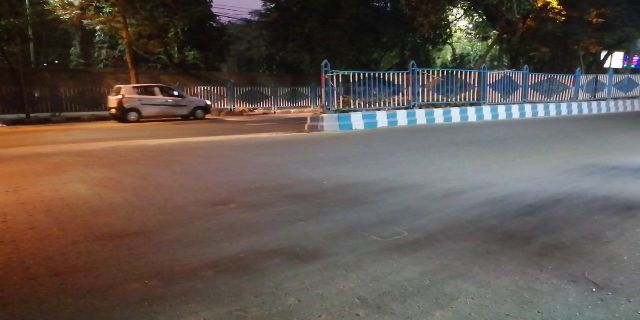Car: (101, 81, 218, 126)
